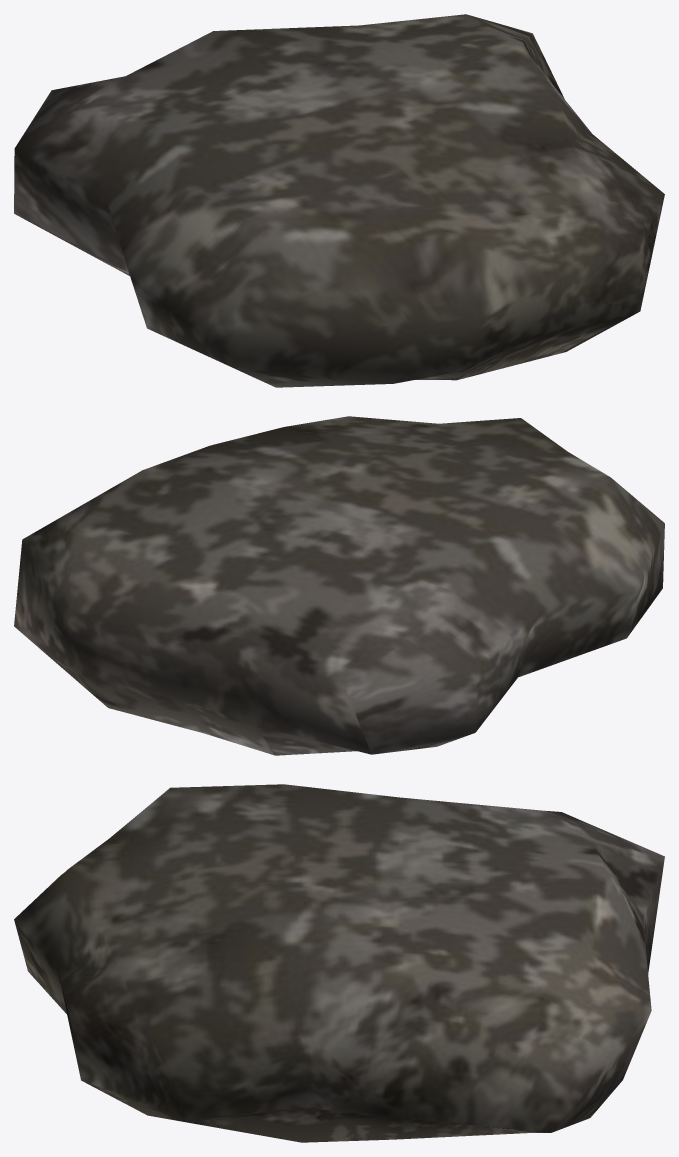
The model's file is Stage_Obj005.fbx.
The picture shows the model from 3 angles, top to bottom: view 1: azimuth 30°, elevation 25°; view 2: azimuth 150°, elevation 25°; view 3: azimuth 270°, elevation 25°; orthographic projection. The views are drawn at different scales.
Parts seen in each view (by area): view 1: SM_SampleGame_Rock004; view 2: SM_SampleGame_Rock004; view 3: SM_SampleGame_Rock004.
Boxes of the visible parts, x1=… form: SM_SampleGame_Rock004: x1=14, y1=14, x2=664, y2=387; SM_SampleGame_Rock004: x1=14, y1=416, x2=664, y2=755; SM_SampleGame_Rock004: x1=14, y1=784, x2=664, y2=1142.
Size of the model in its own units: 46.95 by 17.09 by 49.81.
Materials: 1 (1 with a texture image).
